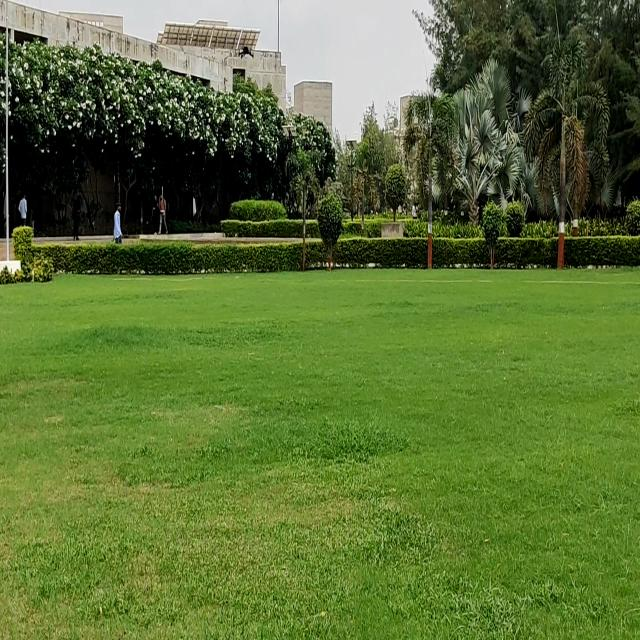drone: (234, 43, 256, 65)
